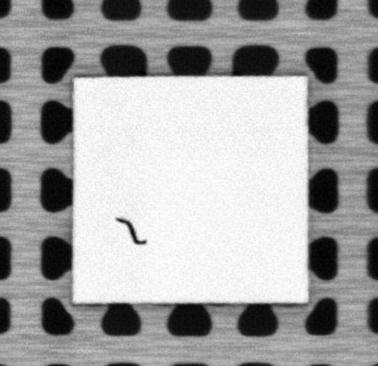DIE_INK: (116, 216, 147, 245)
